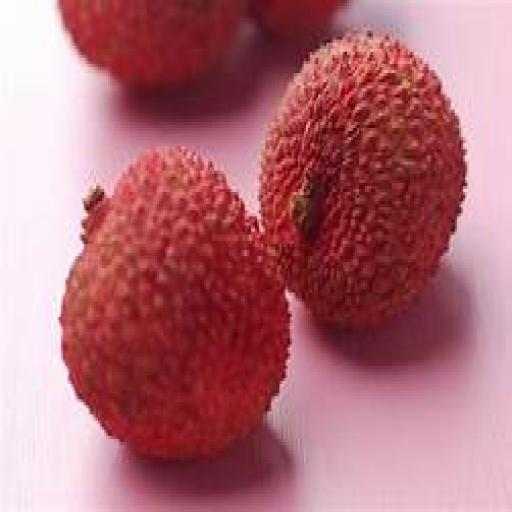lychee: (62, 150, 289, 460), (260, 34, 467, 326), (60, 0, 244, 88), (249, 0, 346, 36)
